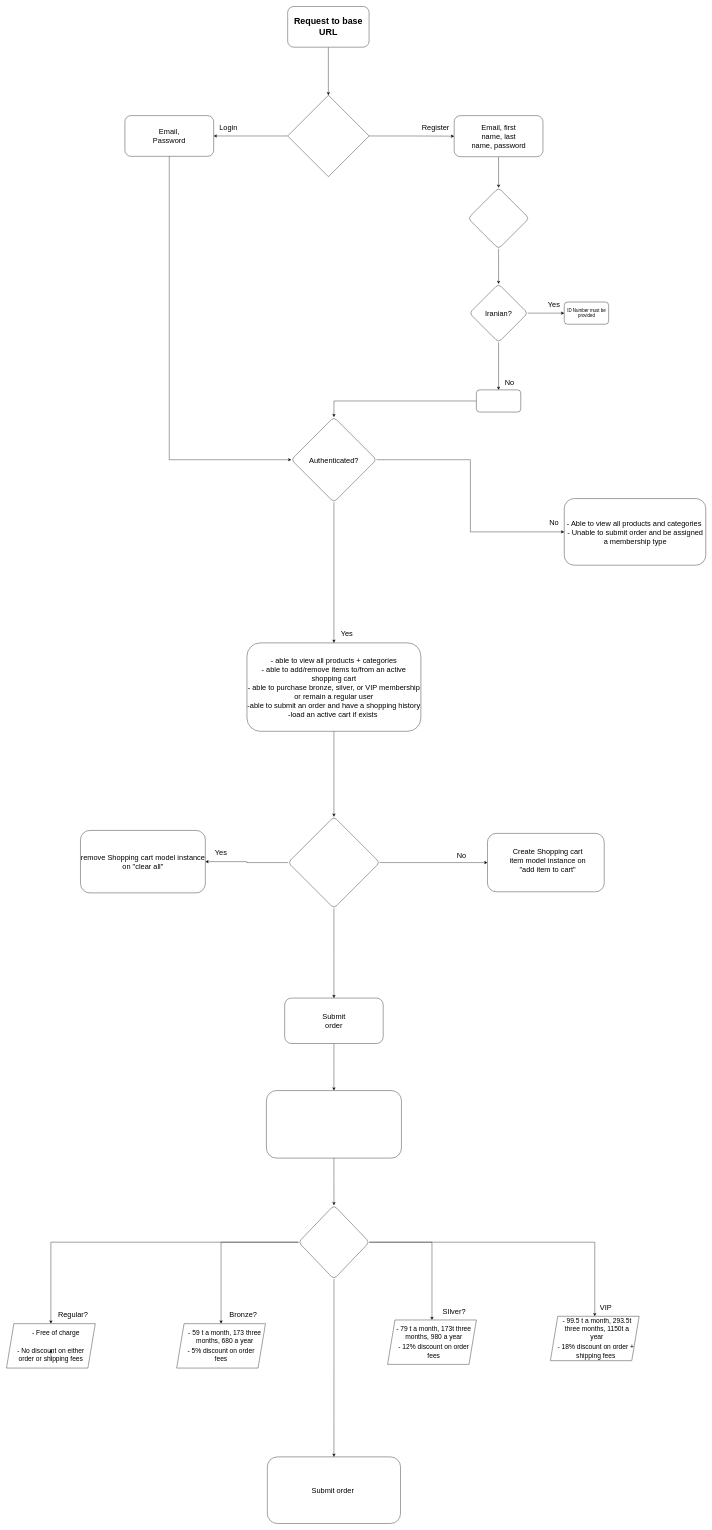
Image size: 712x1530. Some labels were removed from this diagram. The shapes that lost their labels are listed below. From the top down, each one's box as (x1, y1, x2, y2) in pixels, then its label:
(287, 95, 369, 177): Login or Register?
(468, 187, 529, 249): Nationality?
(476, 389, 521, 412): Passport number must be provided
(288, 816, 380, 908): Shopping cart exists?
(266, 1090, 401, 1158): Receipt model instance is created
(298, 1205, 369, 1279): Membership?
